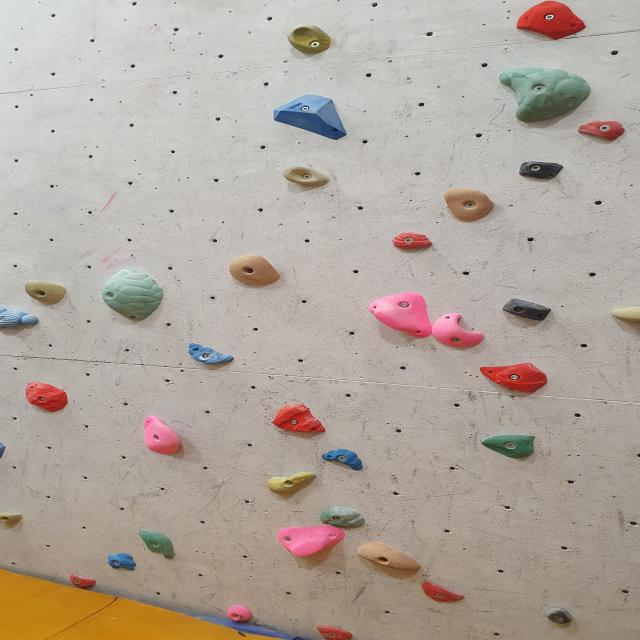Crimp: (516, 0, 590, 42), (268, 399, 328, 442), (483, 360, 549, 395), (26, 381, 70, 413), (314, 508, 366, 530), (185, 345, 237, 365), (388, 231, 432, 254), (577, 121, 626, 140), (417, 583, 457, 603), (320, 451, 364, 468), (313, 625, 356, 640), (67, 570, 96, 589)
Jug: (224, 253, 282, 288), (428, 313, 482, 348), (443, 188, 496, 223), (141, 417, 186, 458), (285, 22, 333, 55), (280, 165, 334, 191), (19, 280, 67, 306)
Pinch: (264, 470, 318, 497), (482, 432, 538, 458), (506, 298, 553, 322), (518, 161, 567, 180), (0, 308, 42, 328), (609, 298, 640, 325), (541, 607, 576, 624)
Sloper: (494, 65, 594, 126), (269, 90, 353, 144), (99, 268, 168, 320), (371, 293, 438, 342), (273, 523, 347, 558), (136, 528, 180, 560), (106, 552, 139, 572), (224, 606, 254, 624)
